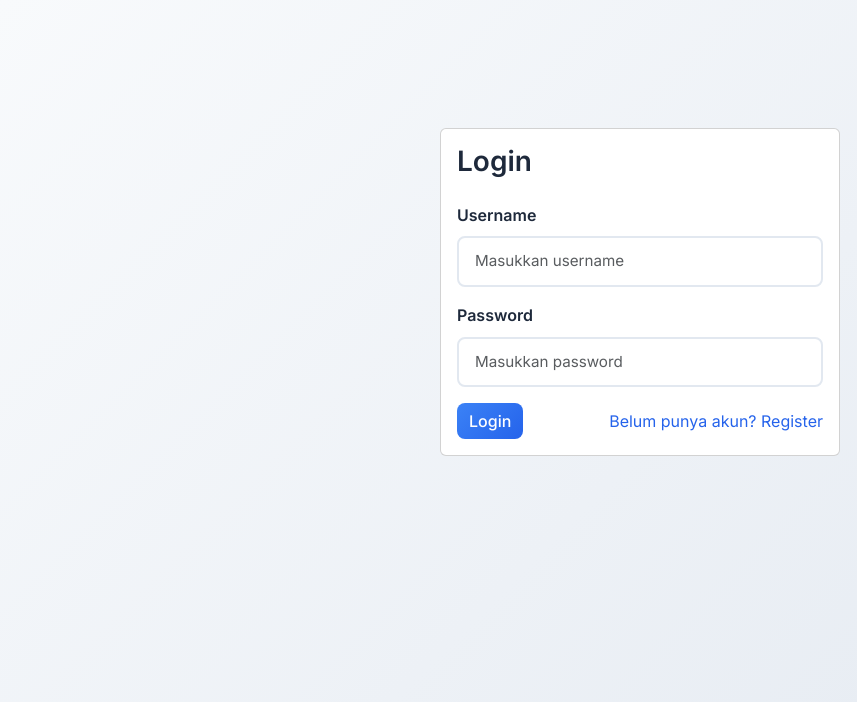
Test case: Login Component › shows error when password is empty
Type "testuser" into the field labelled "Username" at (640, 262), box 457,236 -> 823,287
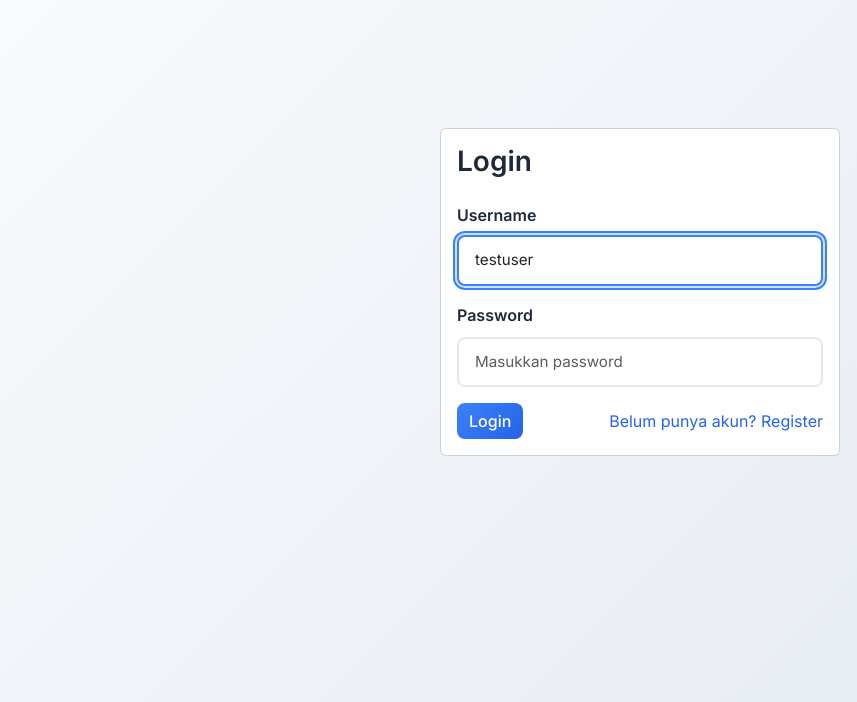
Click the button "Login" at (490, 421), box 457,403 -> 523,439
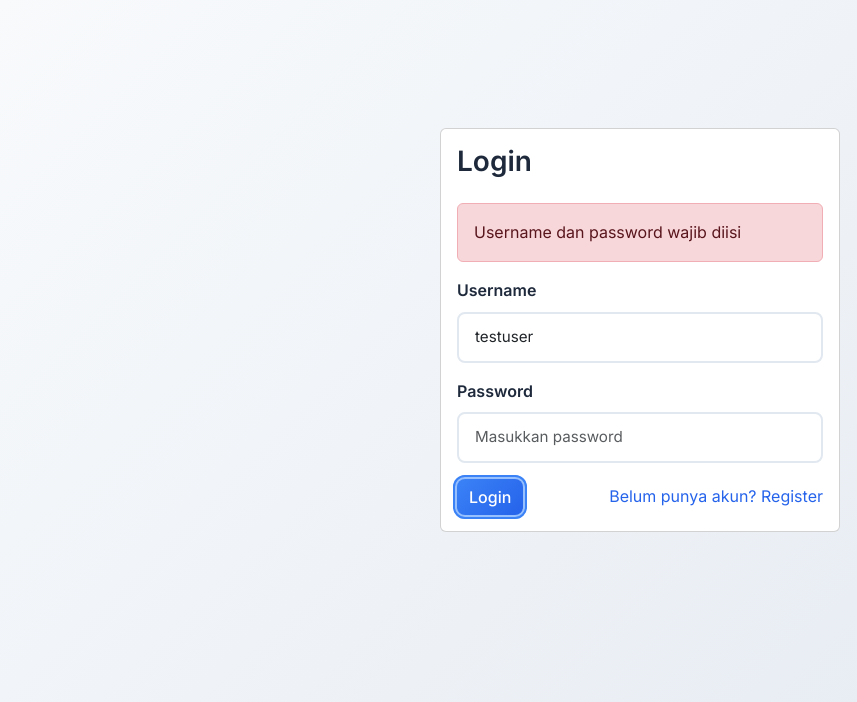
Expected: the text "Username dan password wajib diisi" is shown, 457,203 -> 823,262
